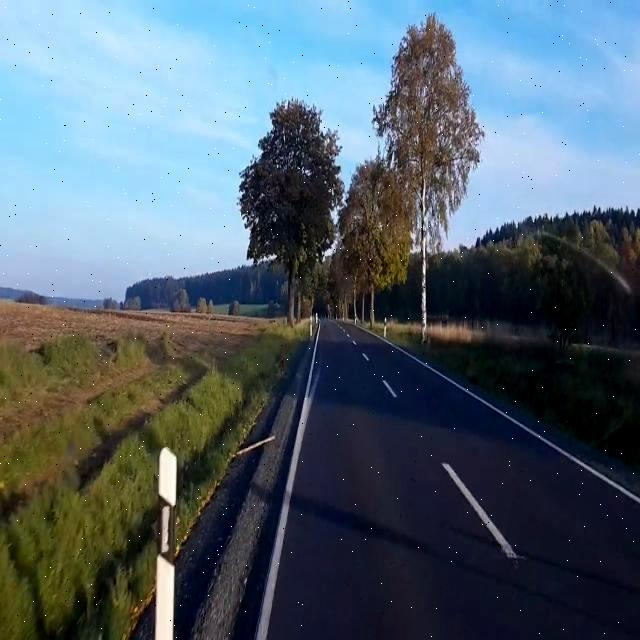lane: (382, 339, 640, 504), (255, 326, 319, 639), (442, 462, 521, 561), (381, 380, 398, 397)
road: (269, 321, 640, 639)
